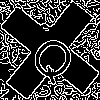Q: (25, 25, 86, 88)
